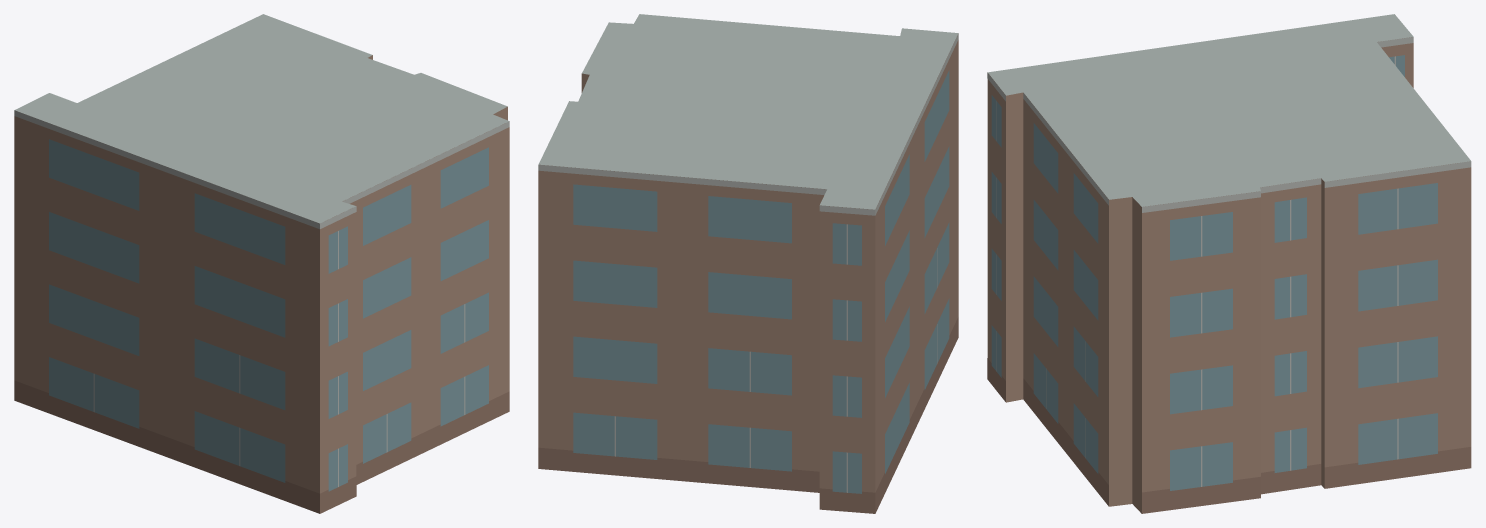
The model's file is survey-upis-32747638.glb.
3 renders of one model, left to right at view 1: azimuth 30°, elevation 25°; view 2: azimuth 150°, elevation 25°; view 3: azimuth 270°, elevation 25°, orthographic. The views are drawn at different scales.
Parts seen in each view (by area): view 1: survey-upis-32747638.tmp; view 2: survey-upis-32747638.tmp; view 3: survey-upis-32747638.tmp.
Part boxes in pixels (x1,y1,x2,y2): survey-upis-32747638.tmp: [14, 14, 509, 513]; survey-upis-32747638.tmp: [538, 14, 958, 513]; survey-upis-32747638.tmp: [987, 14, 1471, 513].
Bounding box in the file's own units: 16.45 × 12.2 × 17.44.
